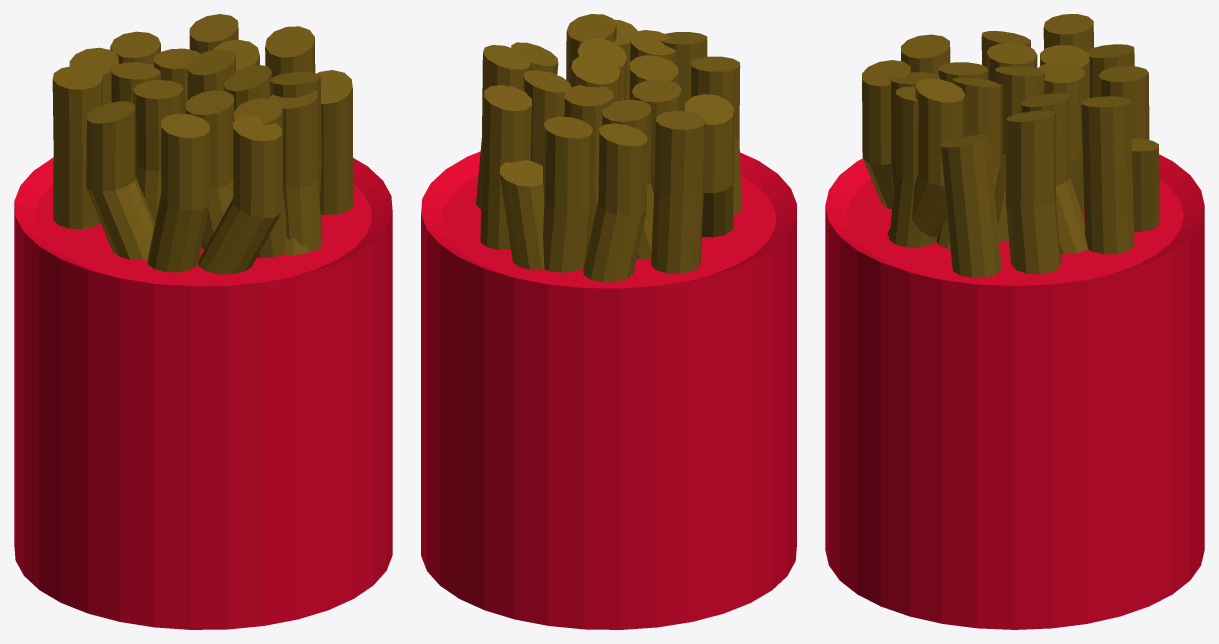
Rendered from WireEnd.fbx.
3 renders of one model, left to right at view 1: azimuth 30°, elevation 25°; view 2: azimuth 150°, elevation 25°; view 3: azimuth 270°, elevation 25°, orthographic.
Parts seen in each view (by area): view 1: WireEnd; view 2: WireEnd; view 3: WireEnd.
Boxes of the visible parts, left/top/right/bottom form: WireEnd: left=14, top=14, right=392, bottom=629; WireEnd: left=421, top=14, right=796, bottom=629; WireEnd: left=825, top=14, right=1204, bottom=629.
Bounding box in the file's own units: 18.45 × 26.29 × 18.45.
